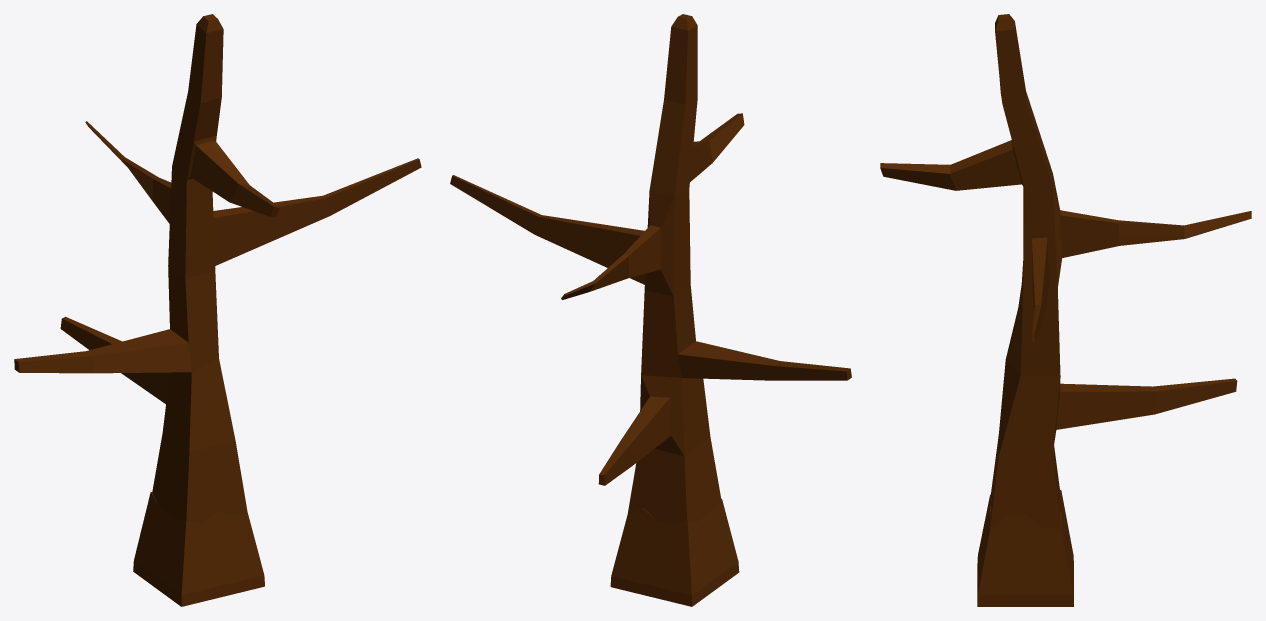
File: DeadTree.fbx
3 renders of one model, left to right at view 1: azimuth 30°, elevation 25°; view 2: azimuth 150°, elevation 25°; view 3: azimuth 270°, elevation 25°, orthographic. The views are drawn at different scales.
Visible parts, largest first — view 1: Cube, Cube.001; view 2: Cube, Cube.001; view 3: Cube, Cube.001.
Part boxes in pixels (x1,y1,x2,y2): Cube: [14, 14, 421, 522]; Cube.001: [133, 492, 264, 606]; Cube: [450, 14, 851, 524]; Cube.001: [610, 499, 739, 606]; Cube: [880, 14, 1251, 528]; Cube.001: [977, 490, 1073, 606].
Bounding box in the file's own units: 1324 × 1774 × 1047.
